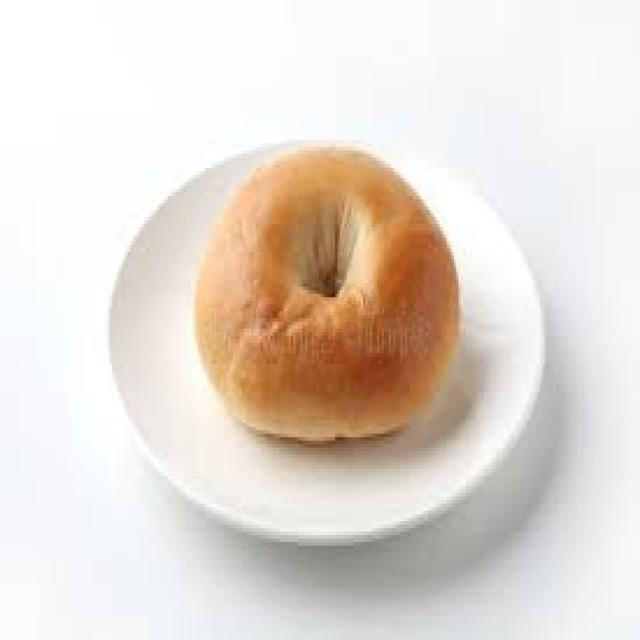Bagel: (195, 148, 459, 440)
